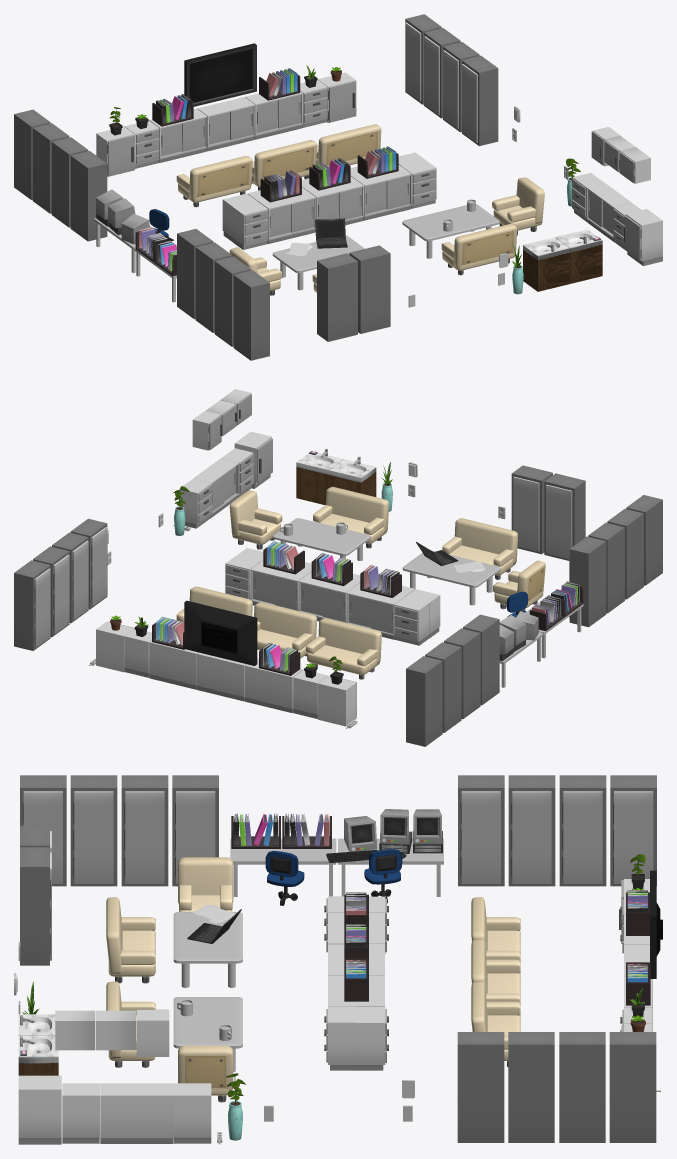
File: Room05Set0.FBX
The picture shows the model from 3 angles, top to bottom: view 1: azimuth 30°, elevation 25°; view 2: azimuth 150°, elevation 25°; view 3: azimuth 270°, elevation 25°; orthographic projection. The views are drawn at different scales.
Parts seen in each view (by area): view 1: moniter0 003, chestbox054, chestbox049, chestbox053, chestbox069, ChamferBox025, ChamferBox023, ChamferBox024, Sink013, chestbox076, ChamferBox027, ChamferBox022 (+48 smaller); view 2: moniter0 003, ChamferBox025, chestbox072, ChamferBox020, chestbox052, ChamferBox023, ChamferBox027, ChamferBox024, ChamferBox022, chestbox073, ChamferBox021, chestbox062 (+43 smaller); view 3: chestbox073, chestbox076, chestbox074, chestbox075, chestbox056, chestdoor002, chestdoor003, chestdoor008, chestdoor009, chestdoor007, chestbox053, chestdoor010 (+47 smaller).
Part boxes in pixels (left/top/right/bottom): moniter0 003: left=184, top=43, right=256, bottom=106; chestbox054: left=317, top=253, right=357, bottom=341; chestbox049: left=233, top=270, right=269, bottom=360; chestbox053: left=349, top=245, right=390, bottom=333; chestbox069: left=70, top=151, right=107, bottom=241; ChamferBox025: left=176, top=156, right=252, bottom=207; ChamferBox023: left=441, top=224, right=517, bottom=275; ChamferBox024: left=402, top=204, right=499, bottom=258; Sink013: left=523, top=237, right=569, bottom=291; chestbox076: left=462, top=55, right=498, bottom=146; ChamferBox027: left=251, top=140, right=317, bottom=190; ChamferBox022: left=492, top=177, right=544, bottom=235; moniter0 003: left=184, top=600, right=257, bottom=665; ChamferBox025: left=306, top=618, right=381, bottom=679; chestbox072: left=406, top=656, right=442, bottom=746; ChamferBox020: left=442, top=518, right=517, bottom=579; chestbox052: left=569, top=536, right=606, bottom=627; ChamferBox023: left=313, top=486, right=388, bottom=548; ChamferBox027: left=254, top=602, right=317, bottom=658; ChamferBox024: left=272, top=518, right=370, bottom=560; ChamferBox022: left=229, top=490, right=282, bottom=549; chestbox073: left=14, top=560, right=50, bottom=650; ChamferBox021: left=402, top=550, right=500, bottom=605; chestbox062: left=245, top=658, right=303, bottom=713; chestbox073: left=609, top=1032, right=656, bottom=1142; chestbox076: left=457, top=1032, right=504, bottom=1142; chestbox074: left=559, top=1032, right=605, bottom=1142; chestbox075: left=508, top=1032, right=554, bottom=1142; chestbox056: left=100, top=1083, right=173, bottom=1143; chestdoor002: left=73, top=791, right=113, bottom=883; chestdoor003: left=124, top=791, right=164, bottom=883; chestdoor008: left=511, top=791, right=551, bottom=883; chestdoor009: left=562, top=791, right=602, bottom=883; chestdoor007: left=460, top=791, right=500, bottom=883; chestbox053: left=20, top=847, right=49, bottom=965; chestdoor010: left=613, top=791, right=653, bottom=883.
Size of the model in its own units: 120 by 25.72 by 121.
